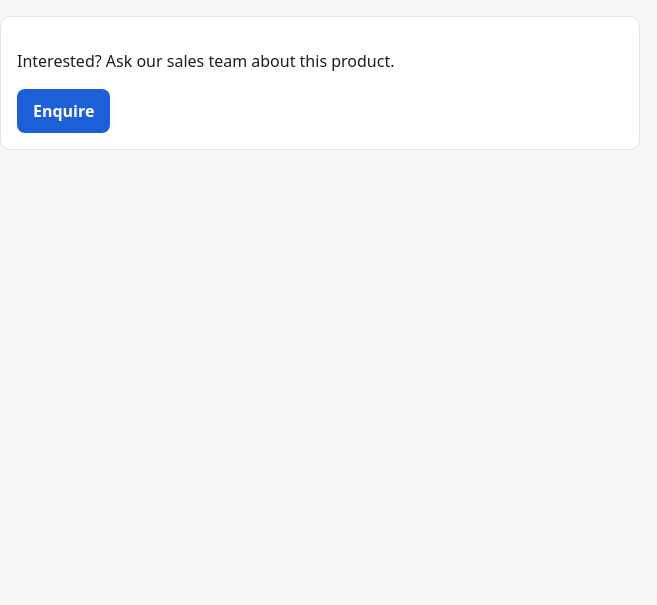
EnquiryForm › submits the enquiry (no recipient) and shows the received confirmation
Click the button "Enquire" at (64, 111), box [17,89,110,133]
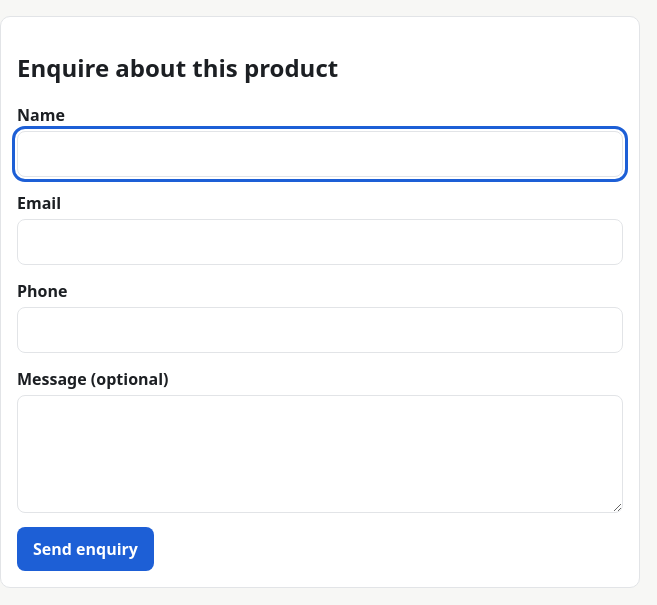
Type "Jane Doe" into the field labelled "Name" at (320, 154), box [17,131,623,177]
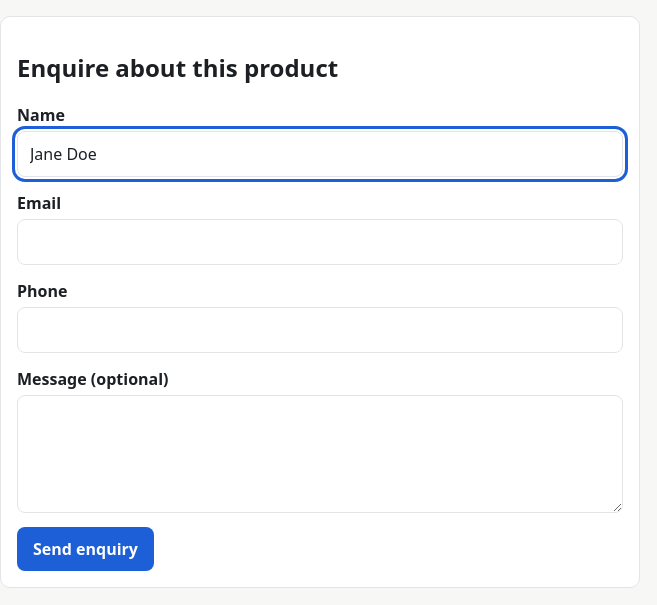
Type "jane@example.com" into the field labelled "Email" at (320, 242), box [17,219,623,265]
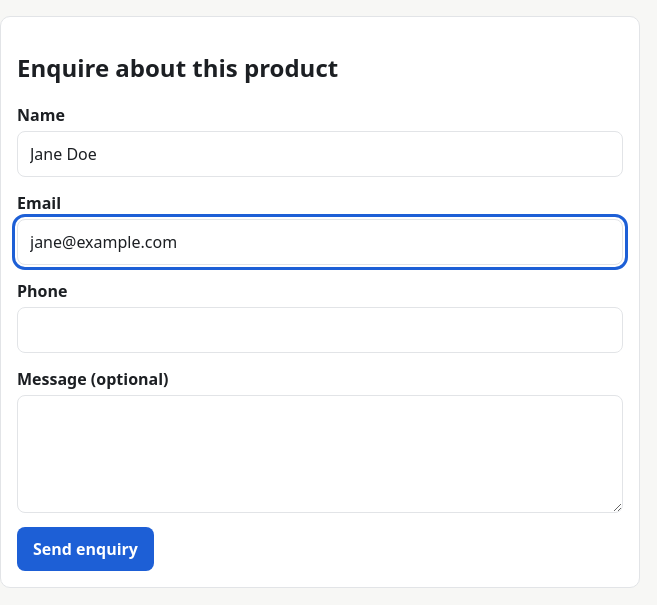
Type "+91 98765 43210" into the field labelled "Phone" at (320, 330), box [17,307,623,353]
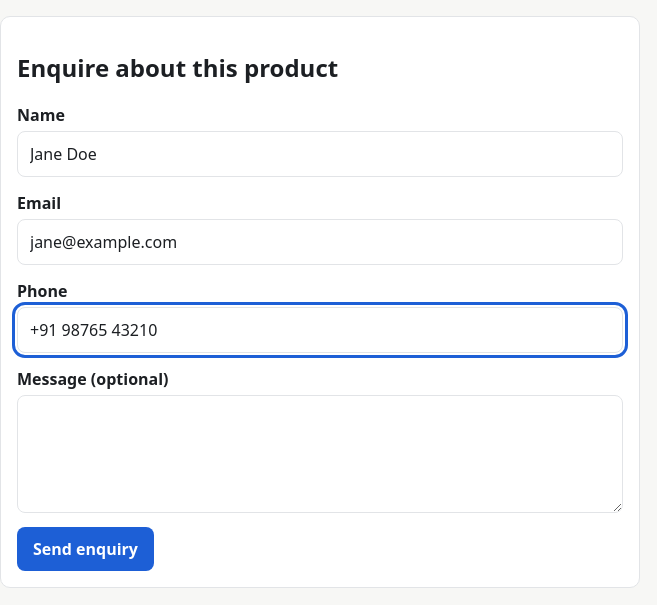
Type "Do you ship to Pune?" into the text box labelled "Message (optional)" at (320, 454), box [17,395,623,513]
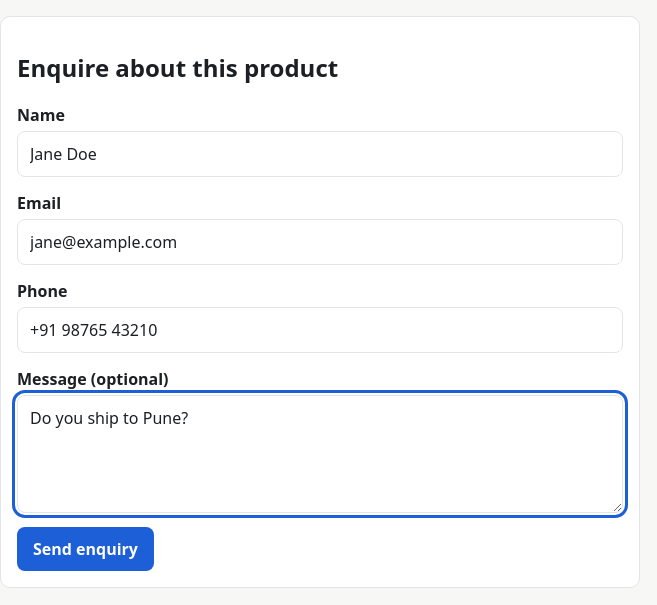
Click the button "Send enquiry" at (85, 549), box [17,527,154,571]
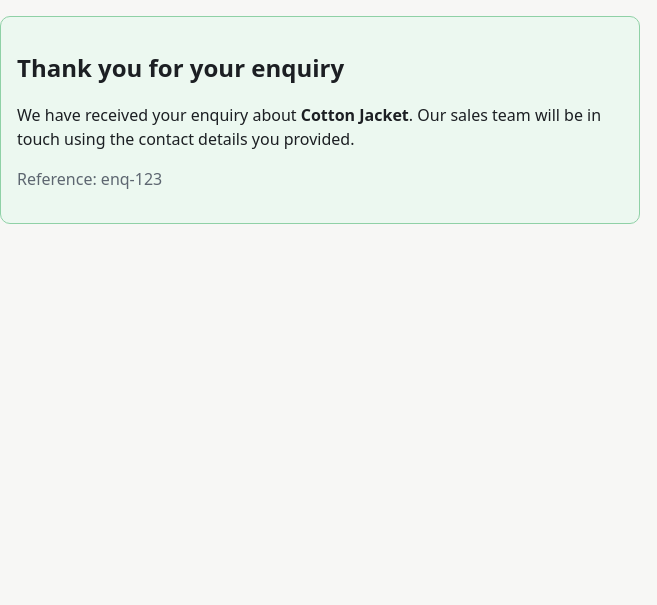
Now the heading "Thank you for your enquiry" is shown, box [17,51,344,84]
Now the text "Reference: enq-123" is shown, box [17,168,162,190]
